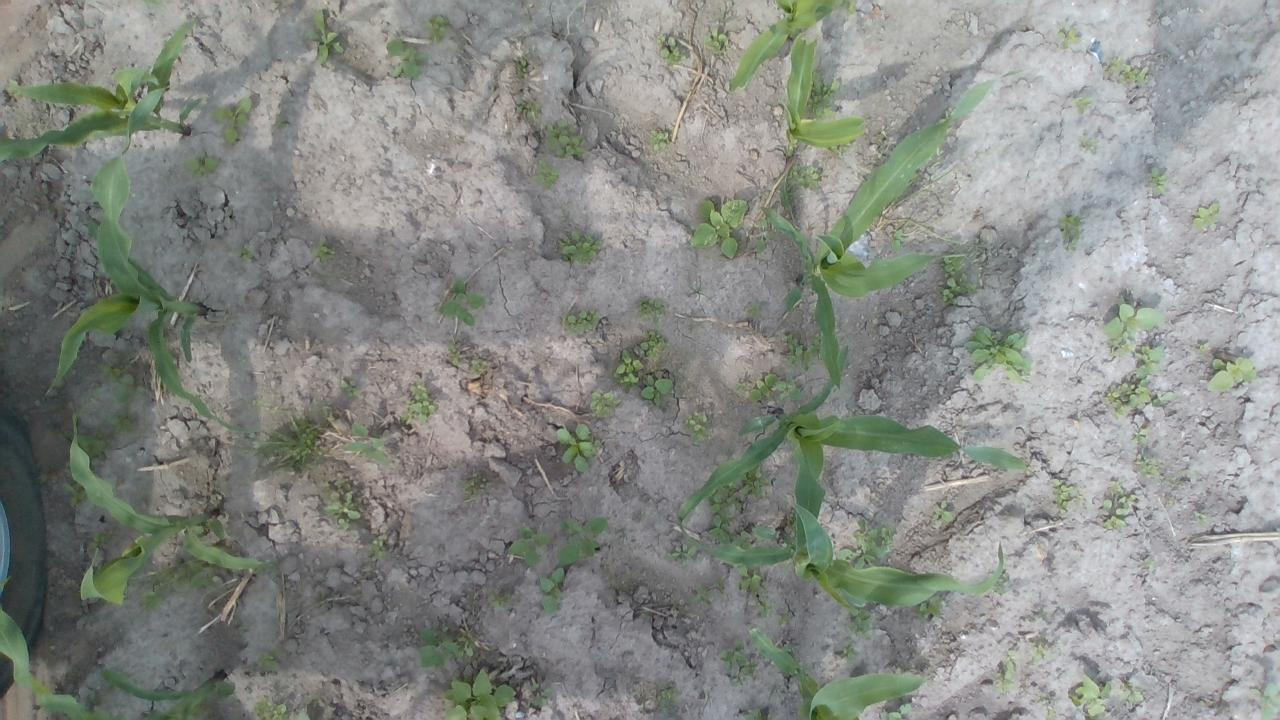Maize: (764, 66, 1028, 389), (44, 84, 235, 429), (675, 346, 1025, 524), (678, 443, 1009, 610), (68, 408, 273, 608), (1, 574, 237, 720), (2, 17, 204, 164), (748, 625, 929, 720), (725, 0, 844, 91), (784, 36, 866, 146)
Weeds: (963, 322, 1031, 382), (243, 415, 314, 472), (686, 196, 748, 260), (446, 668, 518, 720), (1068, 674, 1146, 716), (835, 518, 897, 567), (558, 514, 606, 568), (155, 556, 219, 596), (435, 276, 483, 328), (1104, 378, 1172, 414), (1102, 298, 1164, 336), (210, 95, 254, 147), (558, 424, 602, 474), (344, 421, 390, 468), (312, 6, 344, 67), (1095, 480, 1133, 530), (510, 524, 554, 566), (1207, 356, 1256, 392), (420, 626, 460, 667), (386, 40, 427, 80), (544, 117, 584, 157), (996, 648, 1026, 697), (562, 230, 604, 264), (398, 382, 434, 421), (709, 492, 734, 544), (813, 72, 841, 118), (542, 568, 568, 616), (720, 646, 754, 682), (592, 389, 630, 421), (326, 488, 359, 524), (96, 362, 140, 388), (1133, 342, 1166, 376), (732, 474, 771, 501), (1109, 54, 1146, 82), (616, 351, 644, 388), (781, 335, 816, 364), (565, 306, 603, 332), (746, 373, 782, 400), (682, 410, 712, 442), (186, 154, 224, 179), (642, 376, 675, 404), (642, 330, 670, 362), (942, 277, 976, 303), (658, 31, 683, 65), (1259, 678, 1280, 718), (736, 566, 766, 594), (1054, 481, 1082, 509), (789, 162, 820, 187), (1190, 202, 1218, 229), (78, 430, 106, 457), (423, 14, 450, 41), (532, 165, 560, 190), (1058, 214, 1082, 243), (254, 700, 288, 720), (1057, 23, 1083, 48), (448, 340, 474, 364), (1030, 640, 1056, 663), (143, 592, 169, 615), (464, 474, 492, 495), (1148, 166, 1172, 190), (650, 130, 674, 154), (113, 414, 139, 436), (850, 608, 874, 631), (708, 30, 728, 57), (64, 484, 85, 509), (882, 703, 914, 719), (938, 256, 964, 275), (339, 380, 365, 399), (459, 628, 476, 656), (932, 501, 954, 522), (641, 299, 666, 317), (116, 389, 142, 406), (1110, 334, 1132, 354), (920, 599, 942, 619), (310, 243, 332, 262), (692, 581, 709, 605), (489, 590, 509, 610), (666, 545, 694, 558), (93, 532, 115, 548), (1140, 457, 1162, 473), (259, 654, 279, 671), (744, 707, 769, 720), (238, 242, 254, 262), (518, 101, 538, 117), (368, 540, 386, 557), (777, 608, 794, 626), (840, 642, 859, 658), (656, 688, 675, 704), (1130, 428, 1147, 445), (1080, 136, 1097, 153), (755, 599, 773, 615), (472, 357, 489, 373), (1192, 509, 1208, 526), (1077, 97, 1092, 114), (744, 303, 764, 315), (145, 0, 162, 13), (888, 231, 902, 246), (534, 692, 546, 706), (517, 58, 529, 72), (1198, 342, 1212, 353), (1140, 552, 1150, 566), (738, 380, 749, 390)
